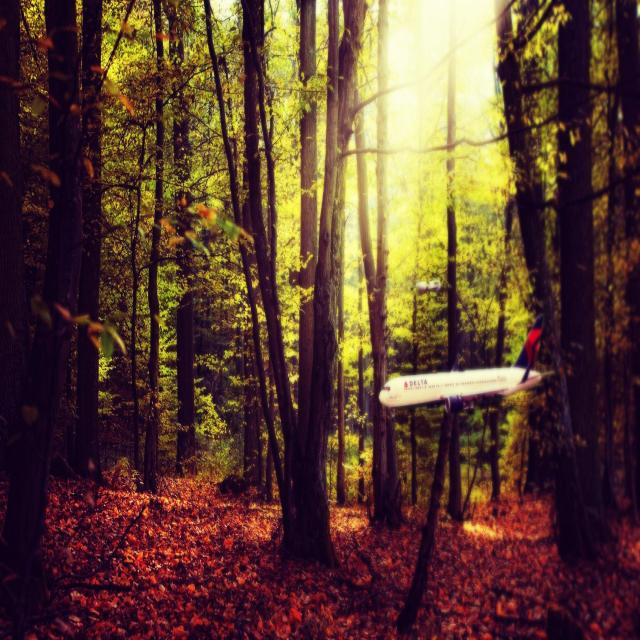airplane: (378, 313, 554, 414)
